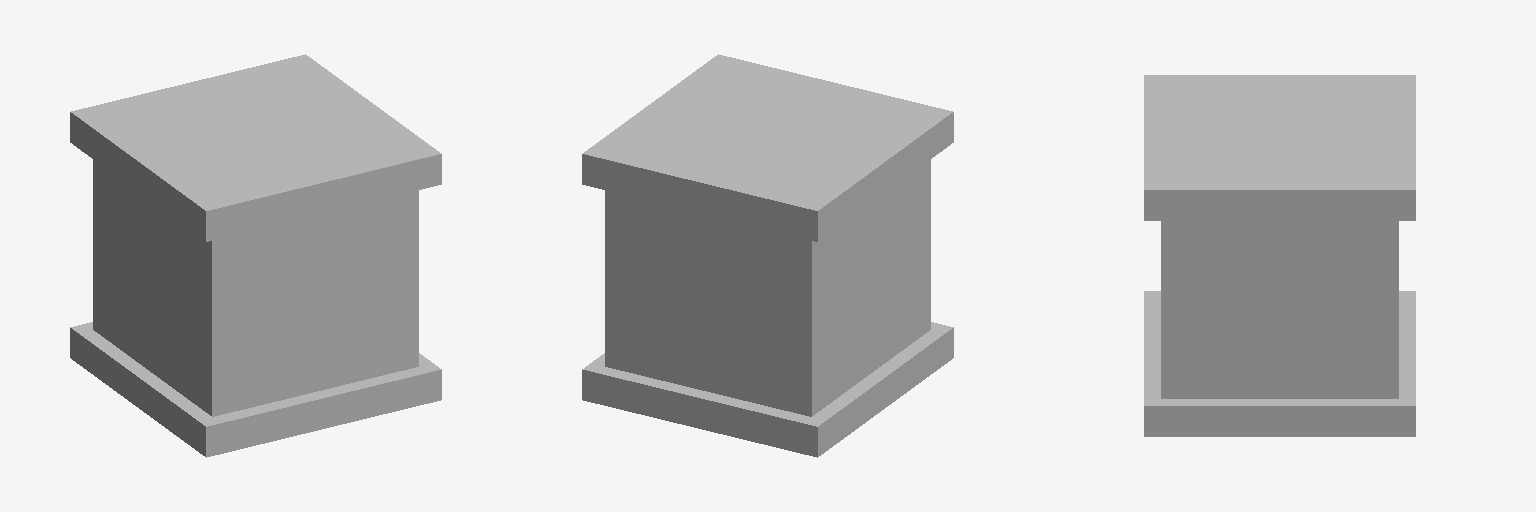
Rendered from tank.obj.
The picture shows the model from 3 angles: view 1: azimuth 30°, elevation 25°; view 2: azimuth 150°, elevation 25°; view 3: azimuth 270°, elevation 25°; orthographic projection.
Visible parts, largest first — view 1: cube, Top Plate; view 2: cube, Top Plate; view 3: cube, Top Plate.
Part boxes in pixels (x1,y1,x2,y2): cube: (70,160,441,457); Top Plate: (70,54,441,241); cube: (582,160,953,457); Top Plate: (582,54,953,241); cube: (1144,221,1415,436); Top Plate: (1144,75,1415,220).
Size of the model in its own units: 1 by 1 by 1.